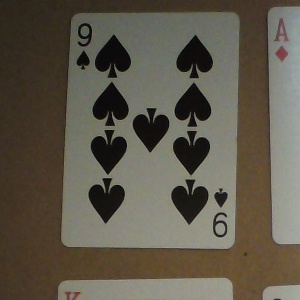card: (63, 10, 237, 248)
